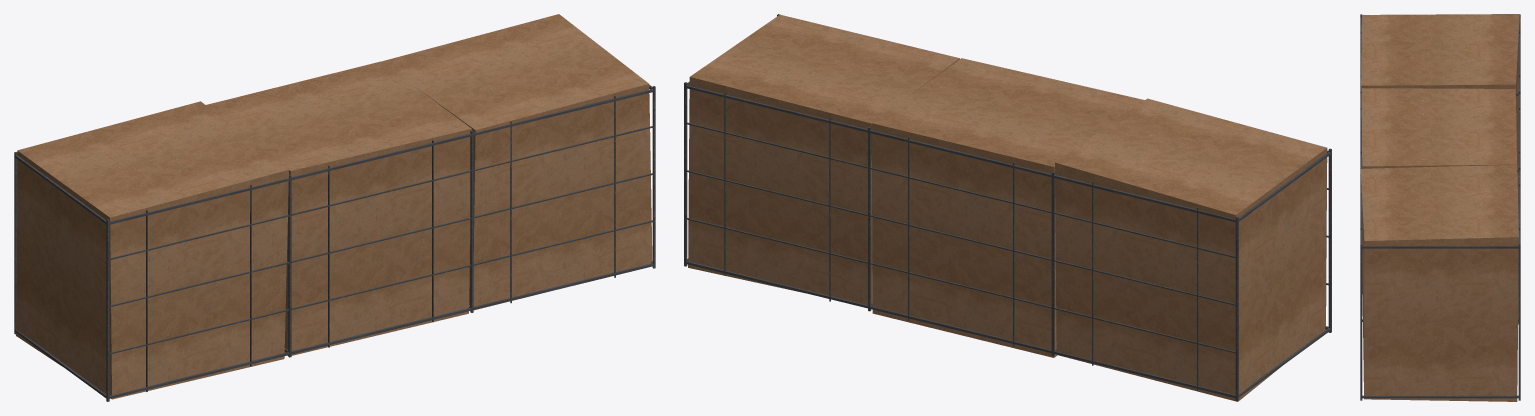
The model's file is hesco.glb.
3 renders of one model, left to right at view 1: azimuth 30°, elevation 25°; view 2: azimuth 150°, elevation 25°; view 3: azimuth 270°, elevation 25°, orthographic. The views are drawn at different scales.
Visible parts, largest first — view 1: hesco; view 2: hesco; view 3: hesco.
Part boxes in pixels (box(x1,y1,x2,y2)): hesco: box(14, 14, 655, 401); hesco: box(684, 14, 1331, 401); hesco: box(1360, 14, 1520, 401).
Bounding box in the file's own units: 3.16 × 1.06 × 0.932.
2 materials, 2 textured.
